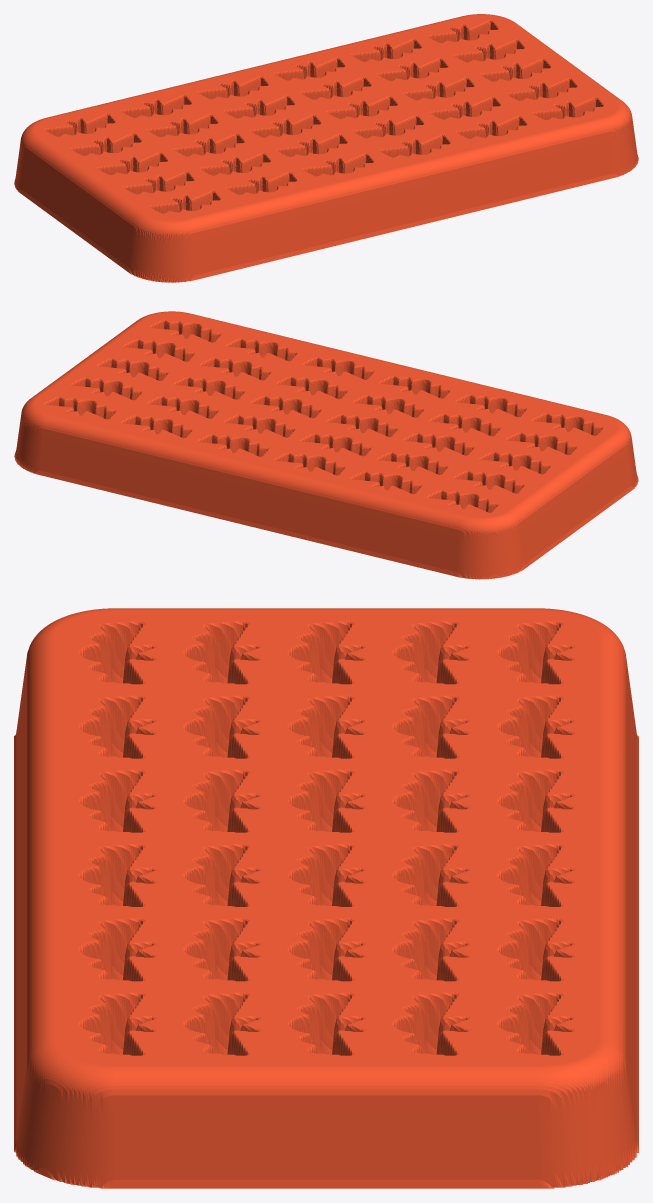
Rendered from mold.glb.
3 renders of one model, top to bottom at view 1: azimuth 30°, elevation 25°; view 2: azimuth 150°, elevation 25°; view 3: azimuth 270°, elevation 25°, orthographic. The views are drawn at different scales.
Parts seen in each view (by area): view 1: geometry_0; view 2: geometry_0; view 3: geometry_0.
Part boxes in pixels (<box>): geometry_0: <box>14,14,638,282</box>; geometry_0: <box>14,311,638,579</box>; geometry_0: <box>14,608,638,1188</box>.
Size of the model in its own units: 0.104 by 0.0105 by 0.0562.
